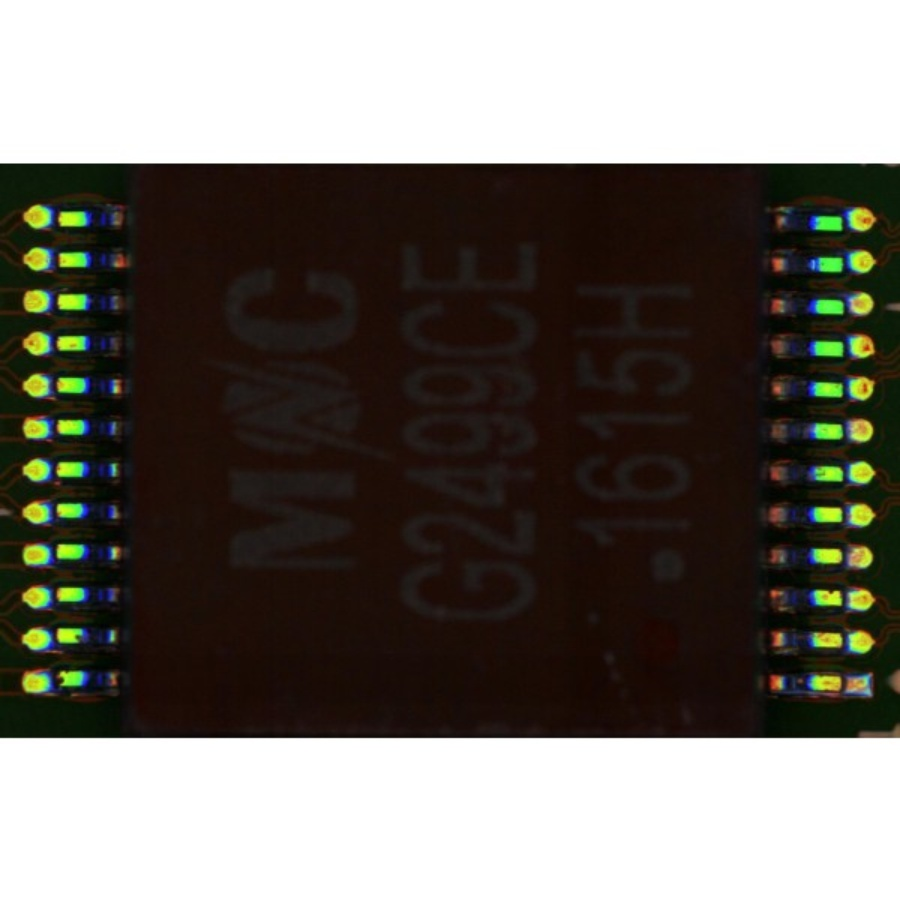Bad_podu: (830, 676, 858, 691), (829, 550, 861, 562)
